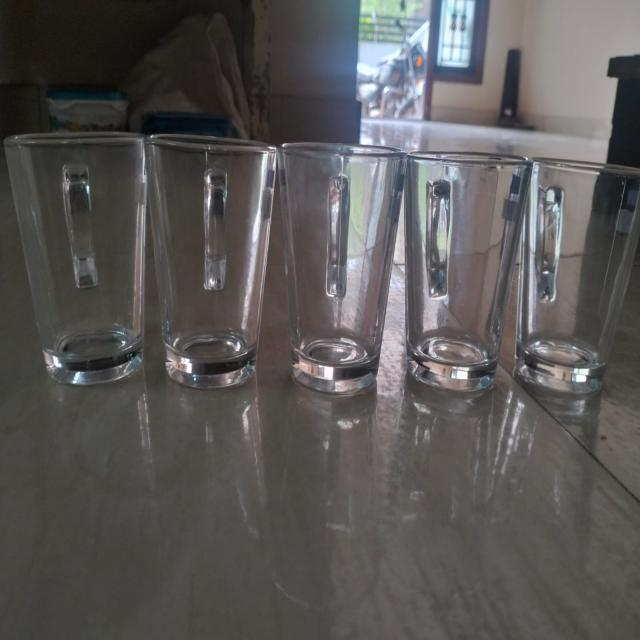glass-VX4N: (1, 134, 151, 390), (142, 134, 277, 390), (273, 144, 407, 398), (402, 149, 529, 404), (508, 157, 640, 396)
